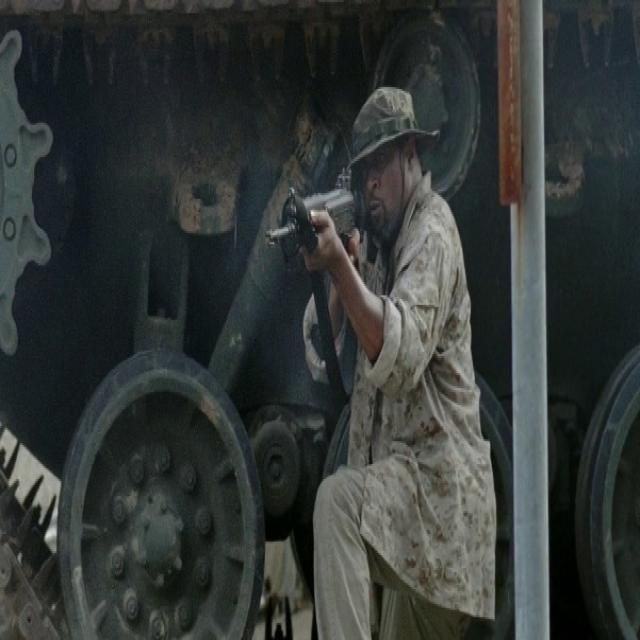rifle: (263, 173, 371, 259)
